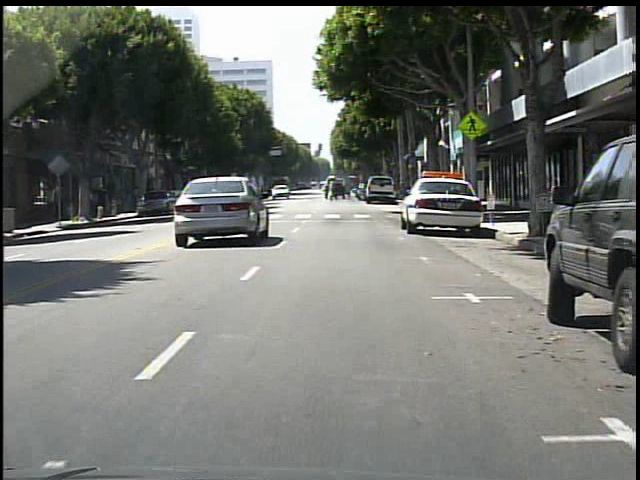person: (96, 185, 110, 219), (47, 182, 58, 219), (90, 186, 100, 217), (333, 177, 334, 199)
